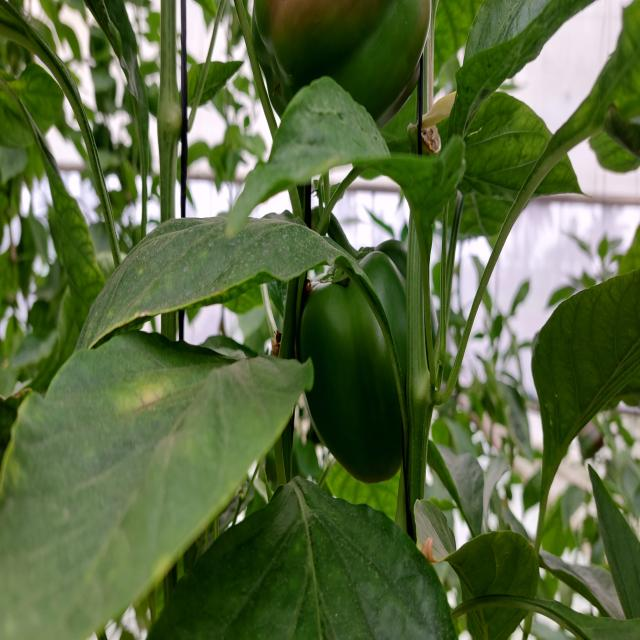Green--Not-ready-to-harvest: (300, 243, 440, 490), (254, 3, 432, 155)
